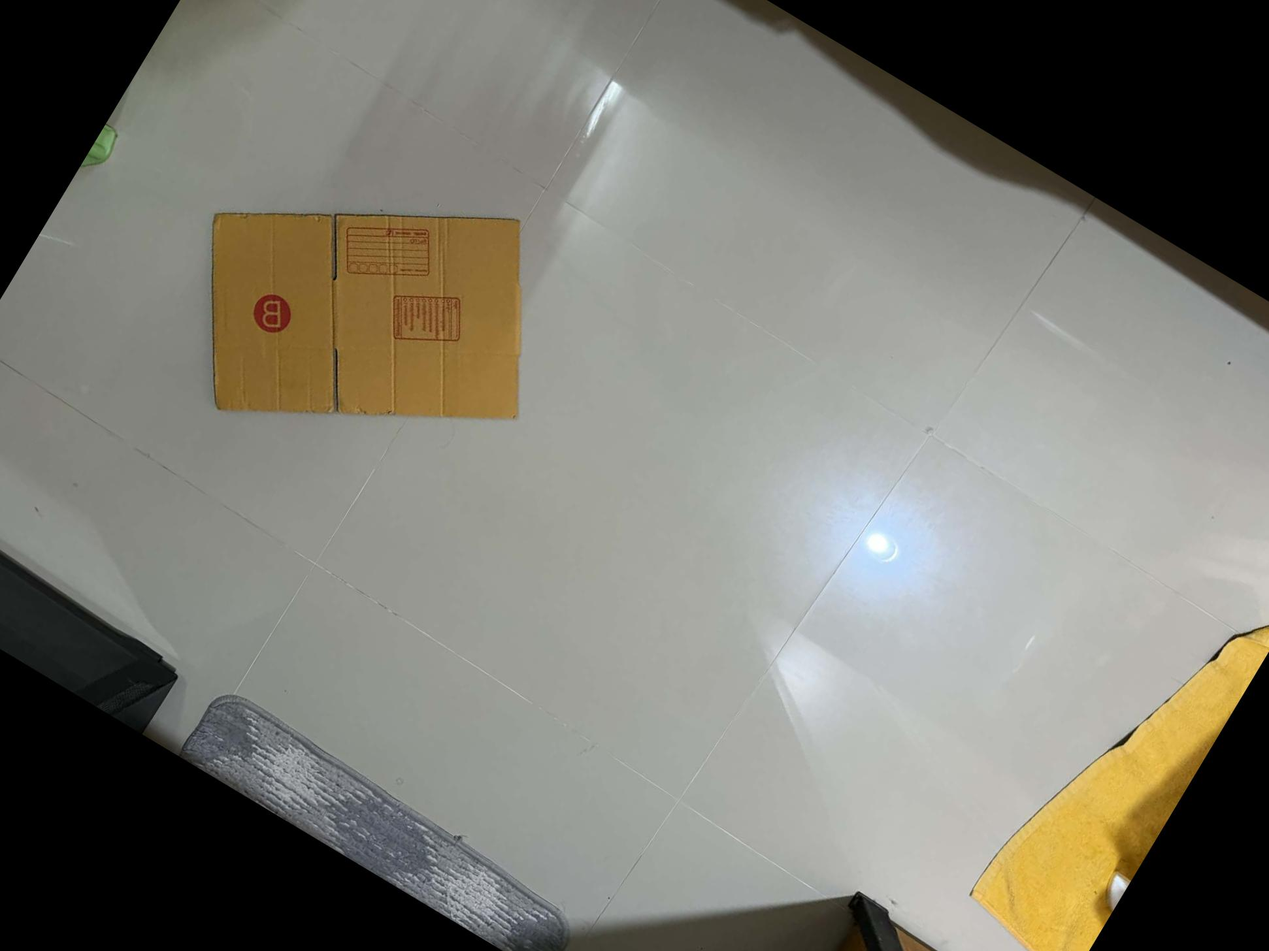box: (324, 190, 451, 309), (373, 269, 475, 367), (246, 286, 302, 341)
class0: (112, 75, 613, 554)
